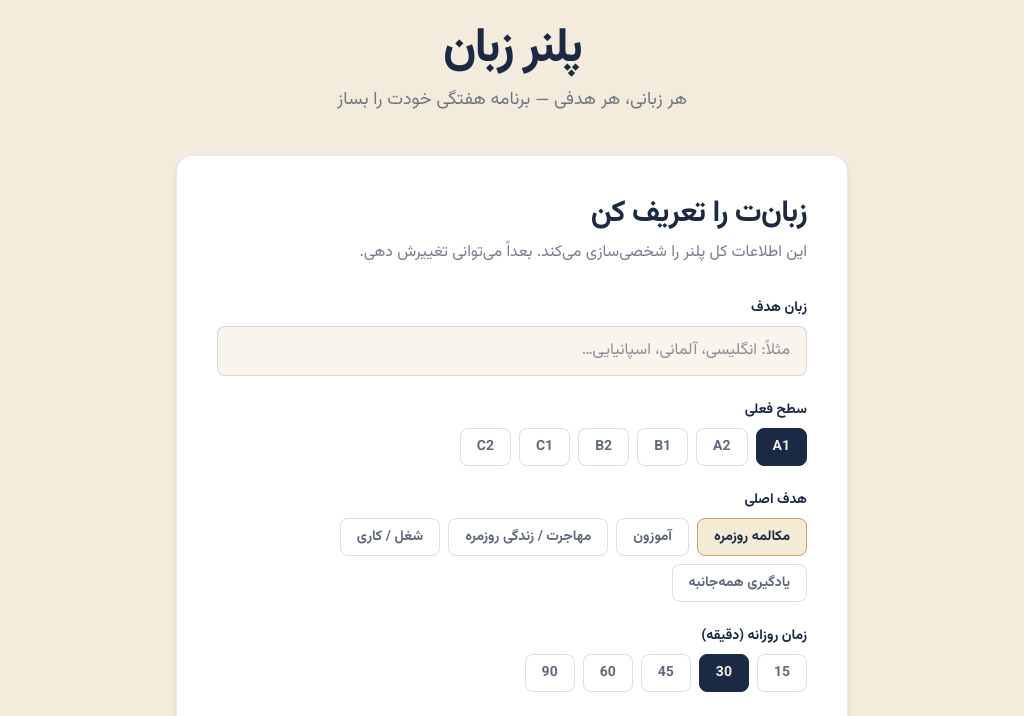
it: LanguagePlannerPage (fa) › creates a language and lands on the weekly grid
Type "اسپانیایی" into the field with placeholder "مثلاً: انگلیسی، آلمانی، اسپانیایی…".
click(512, 351); type("اسپانیایی")  # box [217,326,807,376]
(page scrolled)
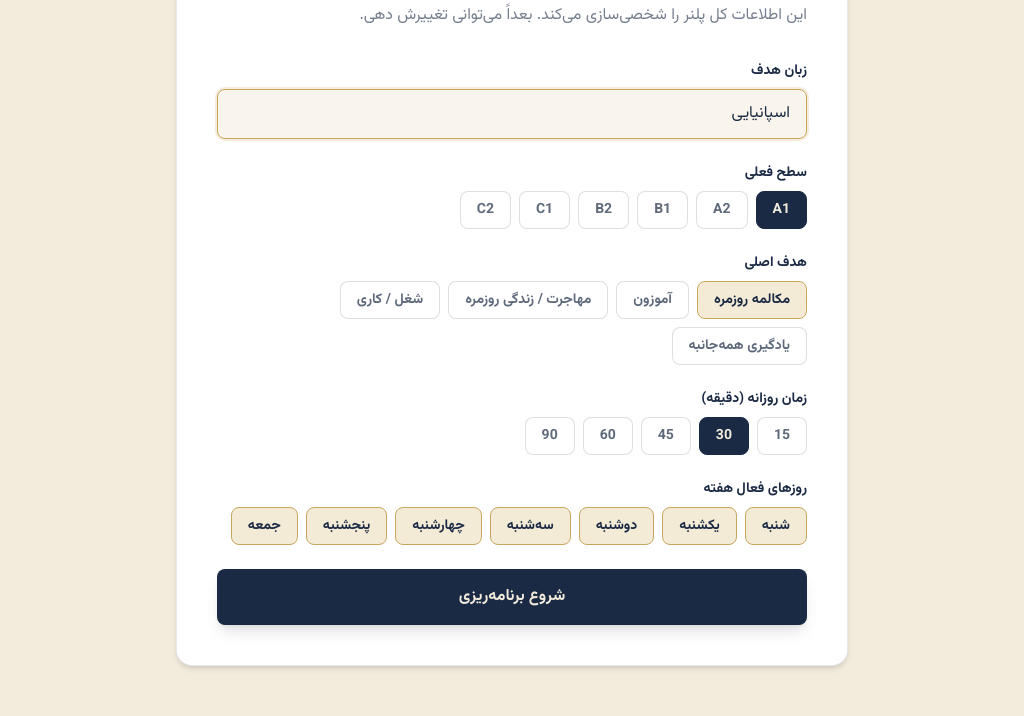
Click the button "شروع برنامه‌ریزی".
click(512, 597)  # box [217,569,807,625]
(page scrolled)
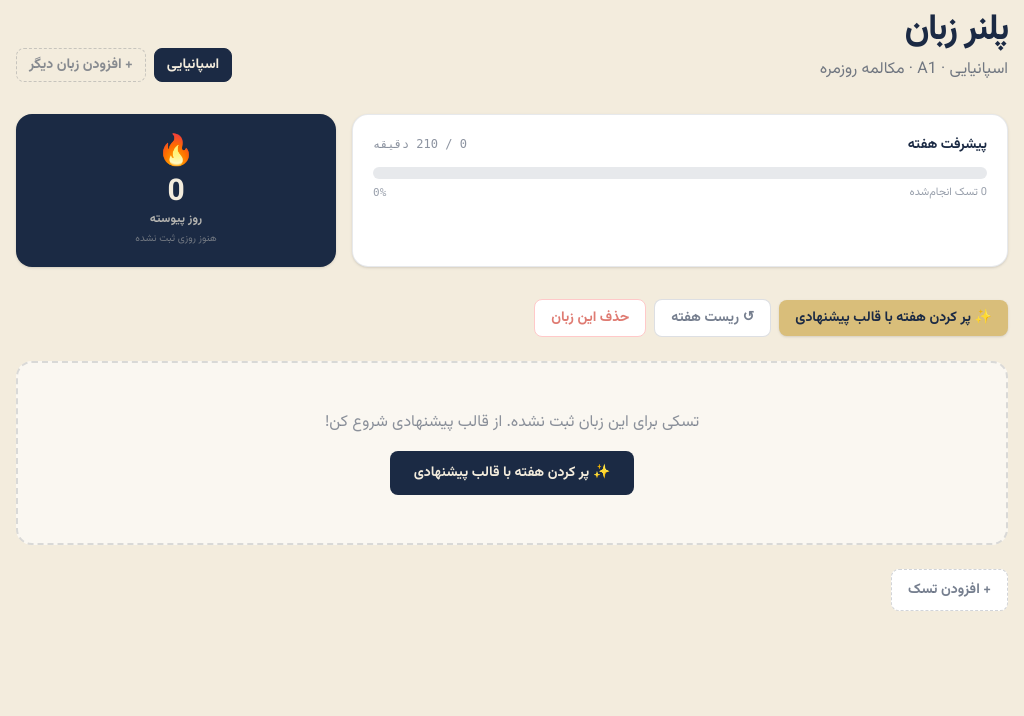
Now the button "اسپانیایی" is shown, box [154,48,232,82]
Now the text "تسکی برای این زبان ثبت نشده. از قالب پیشنهادی شروع کن!" is shown, box [325,410,699,435]
Now the text "پیشرفت هفته" is shown, box [908,135,987,155]
